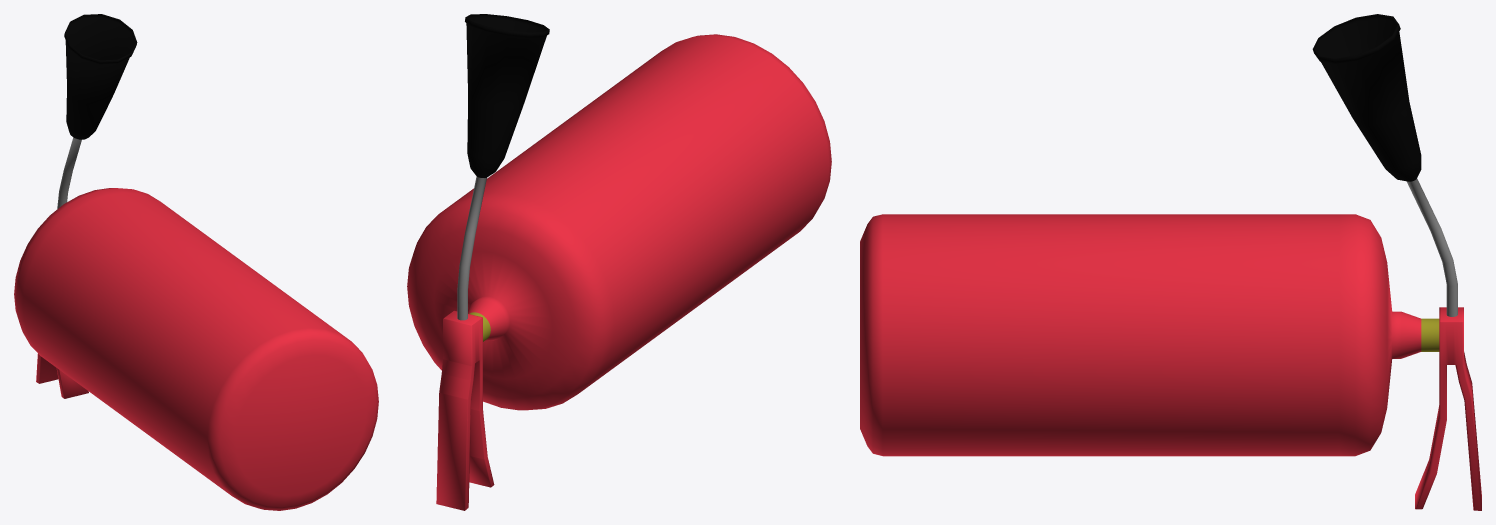
The model's file is огнетушитель.fbx.
The picture shows the model from 3 angles, left to right: view 1: azimuth 30°, elevation 25°; view 2: azimuth 150°, elevation 25°; view 3: azimuth 270°, elevation 25°; orthographic projection. The views are drawn at different scales.
Visible parts, largest first — view 1: Cylinder.006; view 2: Cylinder.006; view 3: Cylinder.006.
Part boxes in pixels (<box>): Cylinder.006: <box>14,14,378,510</box>; Cylinder.006: <box>407,14,831,510</box>; Cylinder.006: <box>860,14,1481,510</box>.
Bounding box in the file's own units: 0.1139 × 0.2493 × 0.2925.
